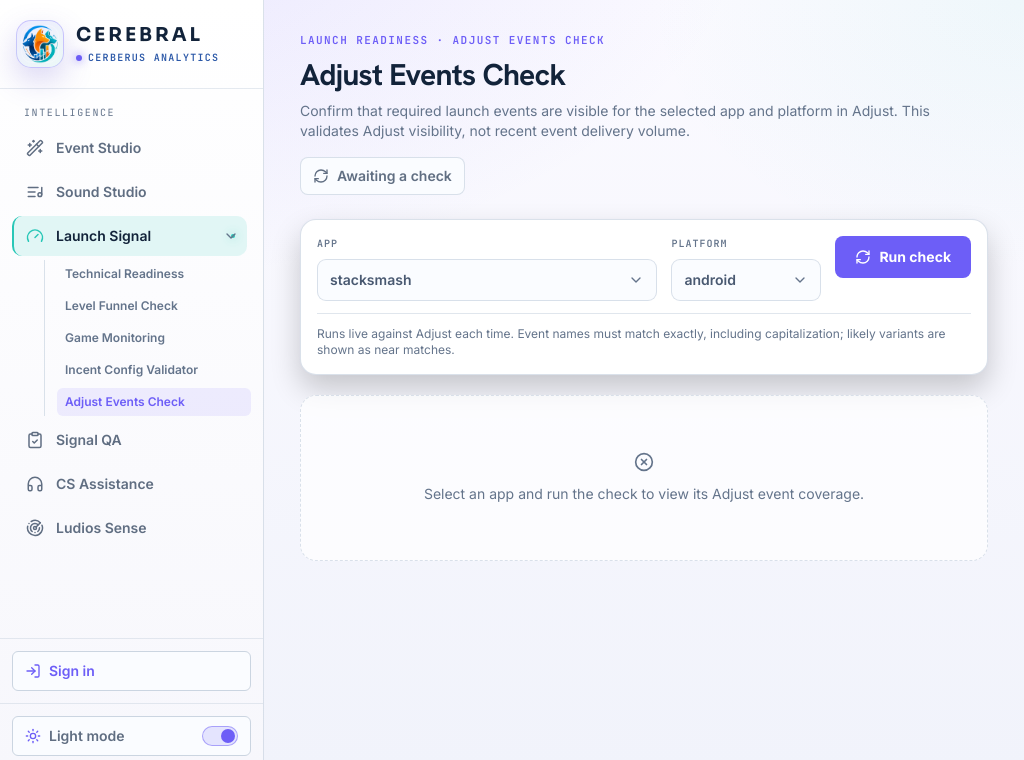
Test: AdjustEventsCheckDashboard › submits the allowed app and displays exact, missing, and milestone results
Expected: the text "stacksmash" is shown, [330,270,412,290]
Click the button "Run check" at (903,256), box [835,236,971,278]
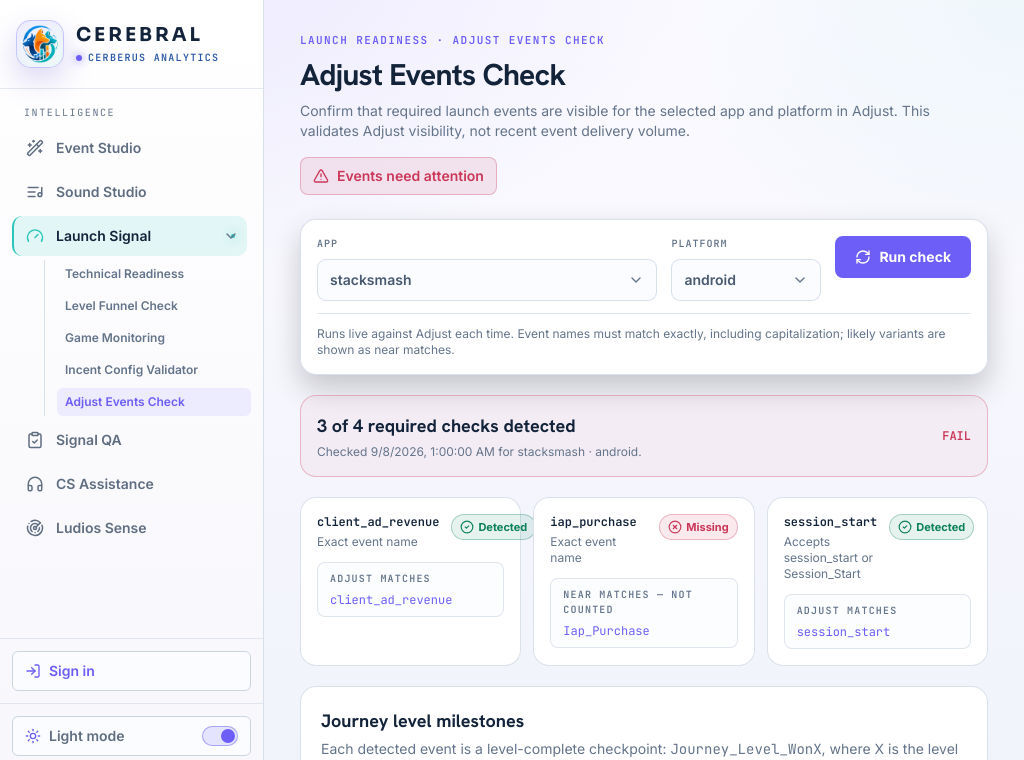
Expected: the heading "3 of 4 required checks detected" is shown, [317,414,576,436]
Expected: the text "Iap_Purchase" is shown, [563,622,650,638]
